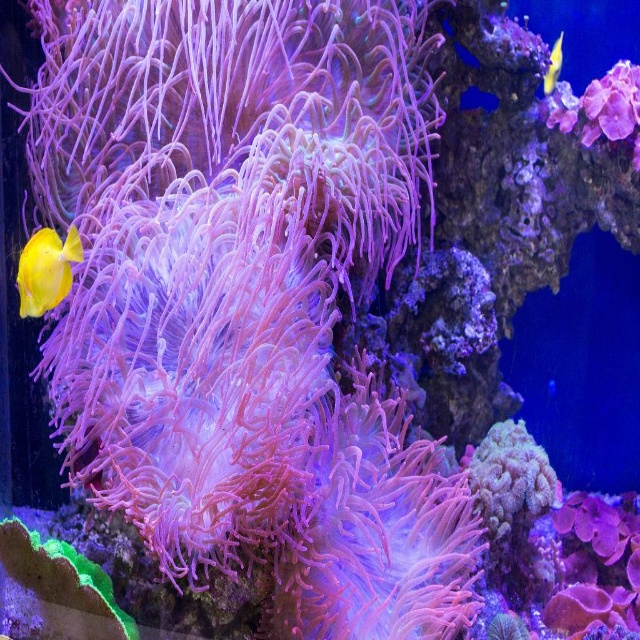Fish: (17, 226, 83, 320), (543, 30, 565, 95)
